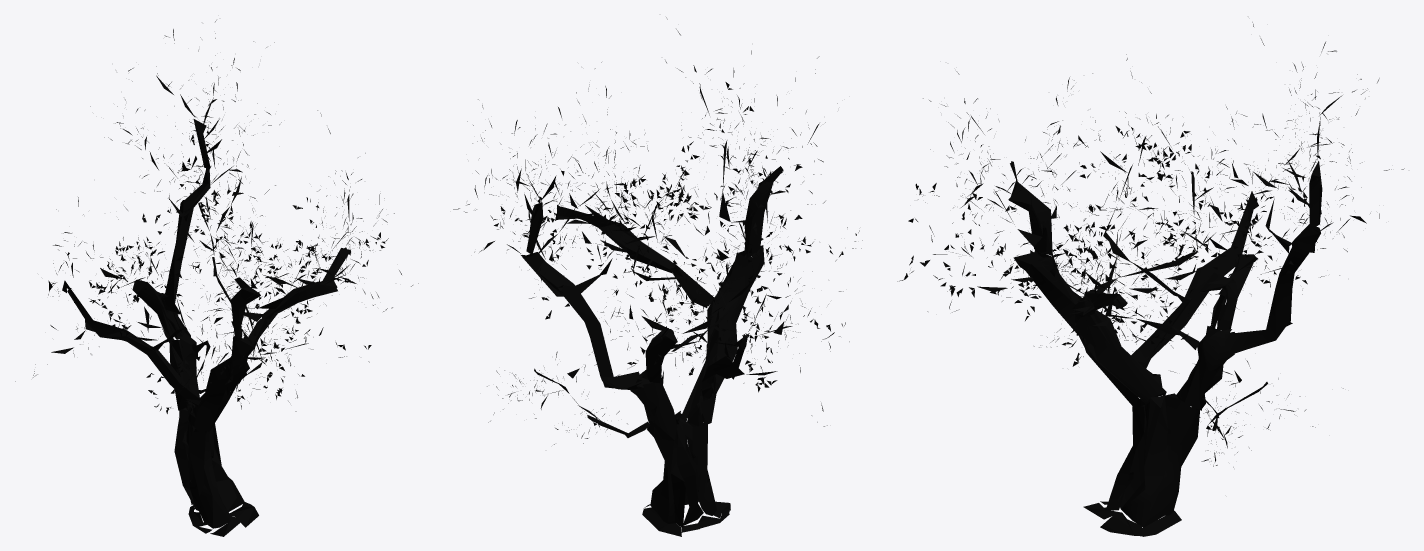
The model's file is Broad_Oak_D.glb.
3 renders of one model, left to right at view 1: azimuth 30°, elevation 25°; view 2: azimuth 150°, elevation 25°; view 3: azimuth 270°, elevation 25°, orthographic. The views are drawn at different scales.
Parts seen in each view (by area): view 1: tree; view 2: tree; view 3: tree.
Boxes of the visible parts, left/top/right/bottom form: tree: left=15, top=20, right=418, bottom=536; tree: left=453, top=17, right=862, bottom=536; tree: left=897, top=22, right=1404, bottom=536.
Size of the model in its own units: 4.15 by 5.28 by 4.67.
1 material, 1 textured.
